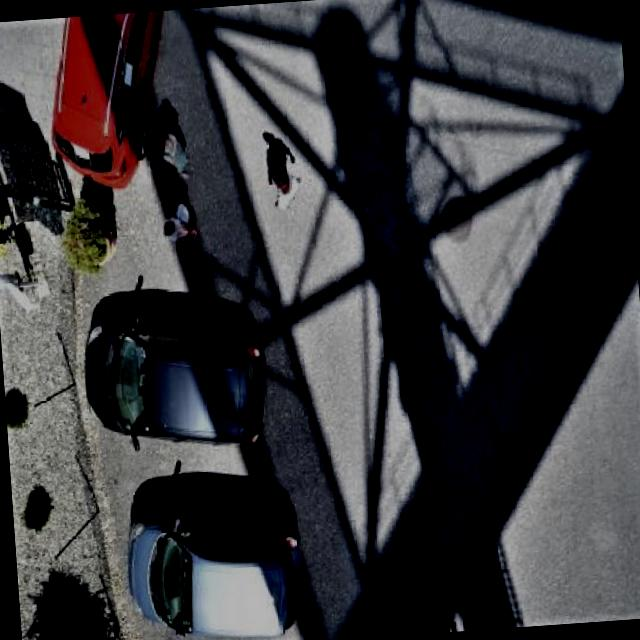Person: (150, 120, 193, 178), (264, 162, 304, 214), (152, 217, 197, 246)
